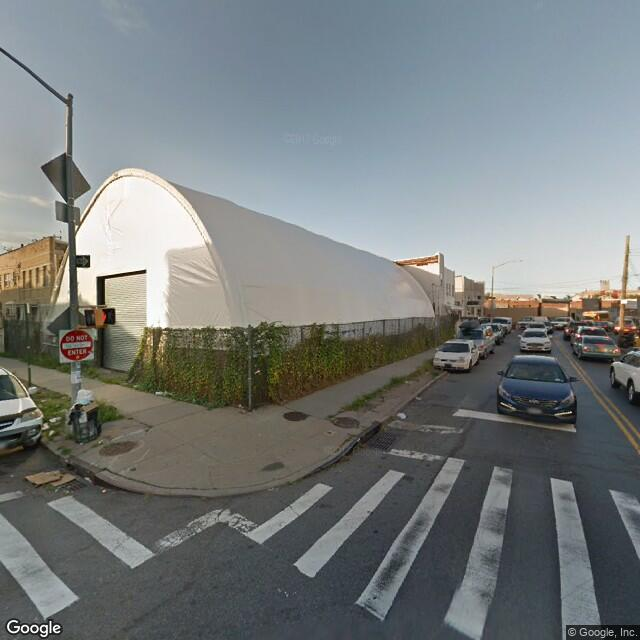litter: (19, 464, 63, 486), (46, 468, 82, 490), (147, 382, 188, 400), (393, 406, 424, 427), (84, 474, 117, 493), (45, 410, 67, 426), (45, 419, 61, 436), (414, 393, 430, 409), (39, 422, 51, 429)
